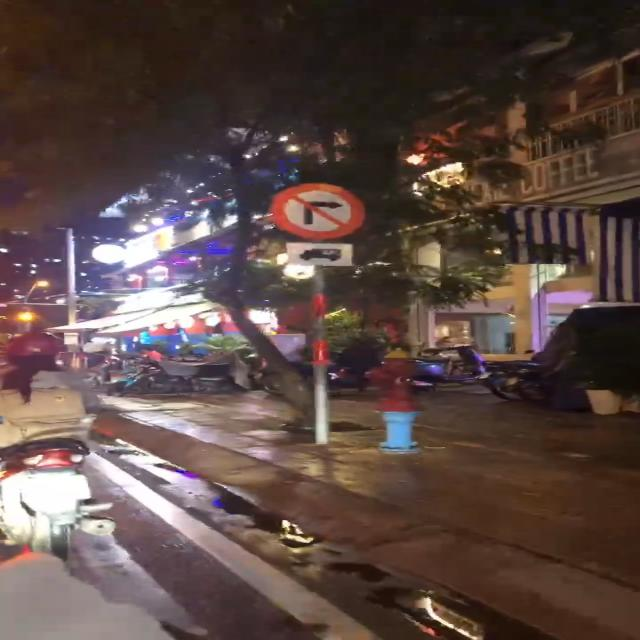Bien bao cam re phai: (251, 172, 371, 241)
